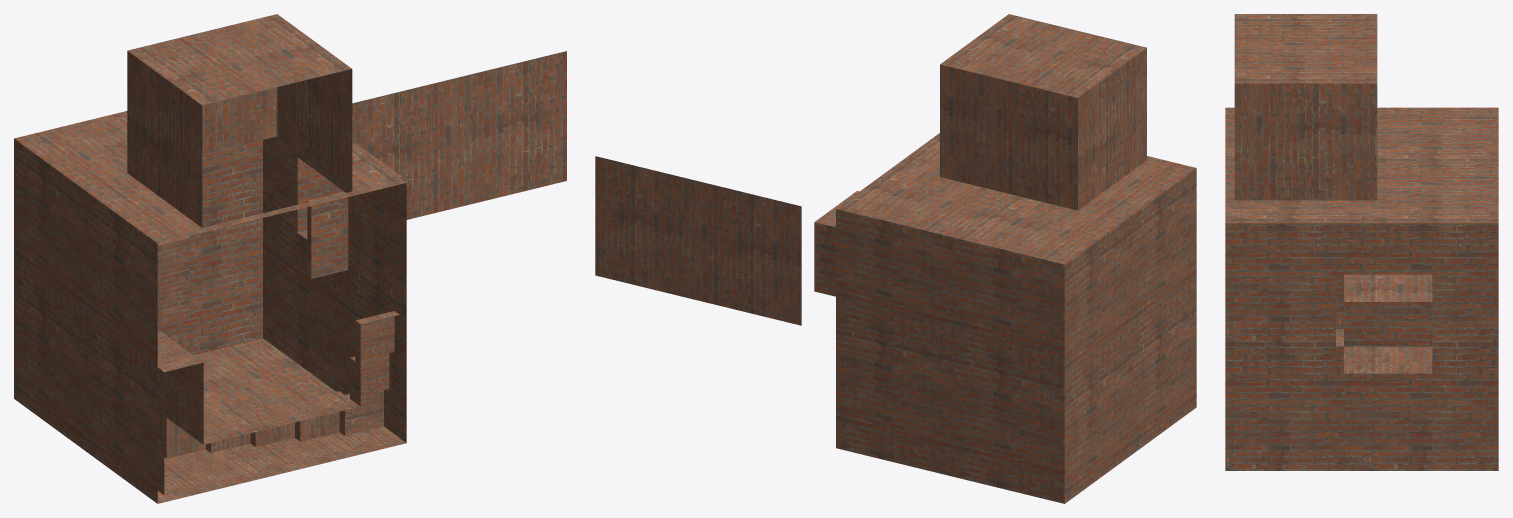
Rendered from Brick.dae.
The picture shows the model from 3 angles, left to right: view 1: azimuth 30°, elevation 25°; view 2: azimuth 150°, elevation 25°; view 3: azimuth 270°, elevation 25°; orthographic projection. The views are drawn at different scales.
Parts seen in each view (by area): view 1: Cube, Cube.003; view 2: Cube; view 3: Cube.
Part boxes in pixels (x1=…): Cube: x1=14, y1=14, x2=566, y2=503; Cube.003: x1=157, y1=236, x2=399, y2=495; Cube: x1=595, y1=14, x2=1196, y2=503; Cube: x1=1225, y1=14, x2=1498, y2=470.
Size of the model in its own units: 11.65 by 5.45 by 8.01.
